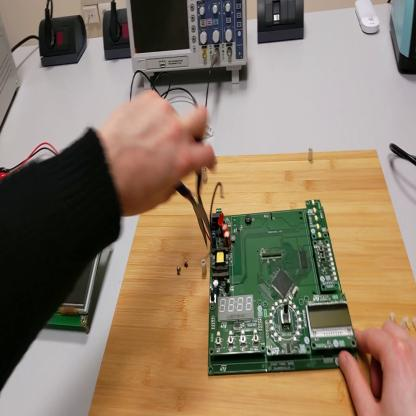hand: (105, 91, 214, 215), (339, 319, 416, 416)
low voltage board: (207, 181, 357, 377)
oscilloscope: (128, 1, 251, 88)
pliers: (180, 146, 214, 254)
power supply: (1, 9, 22, 131)
socket: (37, 13, 88, 71), (102, 7, 131, 60)
welder station: (392, 3, 416, 74)
working area: (91, 147, 416, 414)
